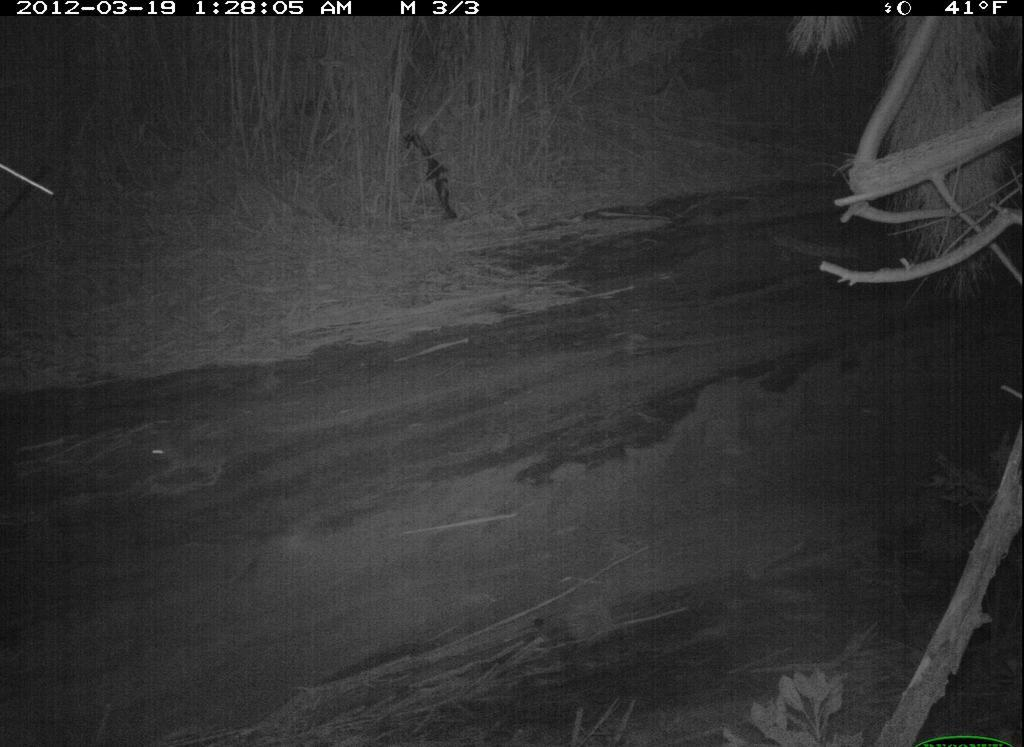rabbit: (138, 410, 243, 499)
